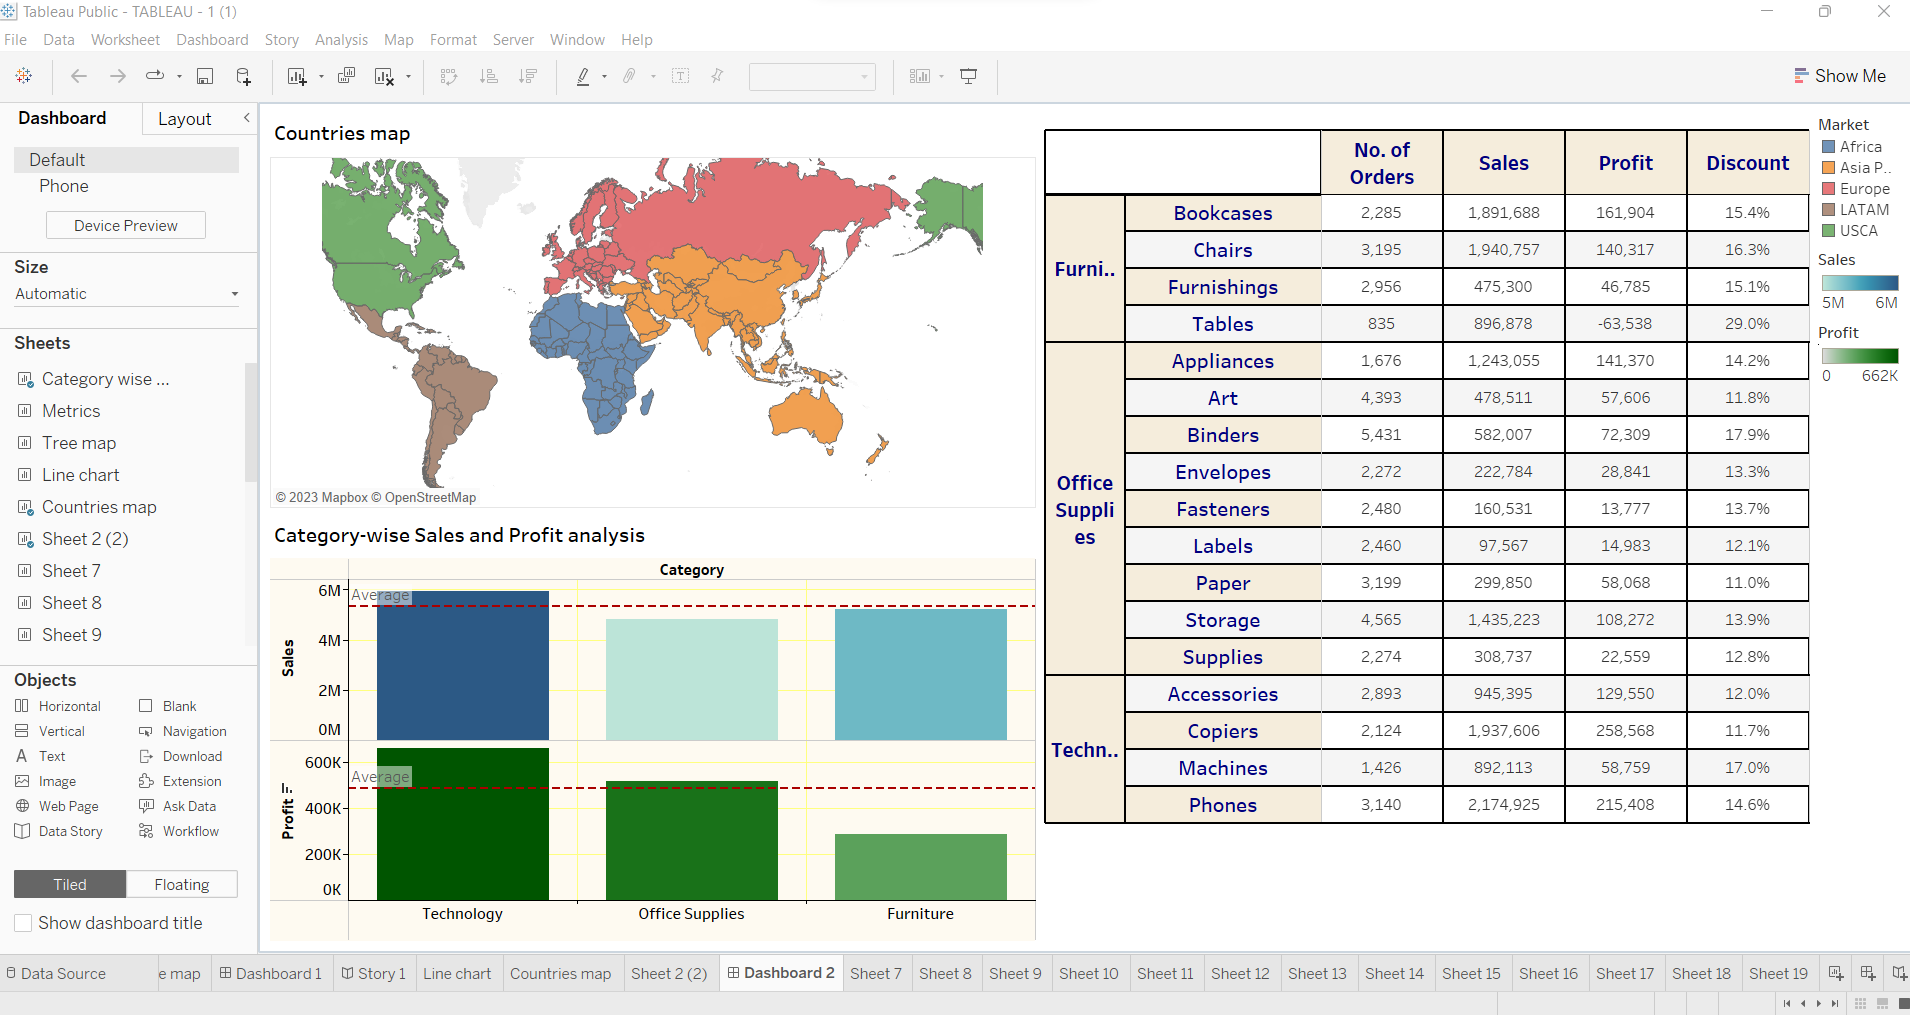

The page's visual inventory and layout, read from the dashboard file:
{"tool":"tableau","page":{"name":"Dashboard 2","canvas":[1000,1000],"units":"permille","ordinal":1},"visuals":[{"type":"worksheet","title":"Countries map","mark":"Multipolygon","box":[4.8,9.4,467.1,472.4]},{"type":"worksheet","title":"Sheet 2 (2)","mark":"Automatic","rows":["Category","Sub-Category"],"box":[471.9,9.4,467.1,943.6]},{"type":"legend","title":"Countries map","param":"[federated.0x9an1012jtiho13ghwss1t0dyvy].[none:Market:nk]","box":[939,9.4,56.1,158.6]},{"type":"legend","title":"Category wise sales and profits","param":"[federated.0x9an1012jtiho13ghwss1t0dyvy].[sum:Sales:qk]","box":[939,168,56.1,85.8]},{"type":"legend","title":"Category wise sales and profits","param":"[federated.0x9an1012jtiho13ghwss1t0dyvy].[sum:Profit:qk]","box":[939,253.8,56.1,85.8]},{"type":"worksheet","title":"Category wise sales and profits","mark":"Automatic","rows":["Sales","Profit"],"cols":["Category"],"box":[4.8,481.8,467.1,508.8]}]}

Visuals, with their boxes on the dashboard's canvas, which has no fixed pixel size, in thousandths of its width and height (x1, y1, x2, y2). These are canvas units, not pixel positions in the 1910x1015 screenshot, which may show the page scaled, cropped or inside an application window:
"Countries map" worksheet (Multipolygon marks): l=5, t=9, r=472, b=482
"Sheet 2 (2)" worksheet: l=472, t=9, r=939, b=953
"Countries map" legend: l=939, t=9, r=995, b=168
"Category wise sales and profits" legend: l=939, t=168, r=995, b=254
"Category wise sales and profits" legend: l=939, t=254, r=995, b=340
"Category wise sales and profits" worksheet: l=5, t=482, r=472, b=991
